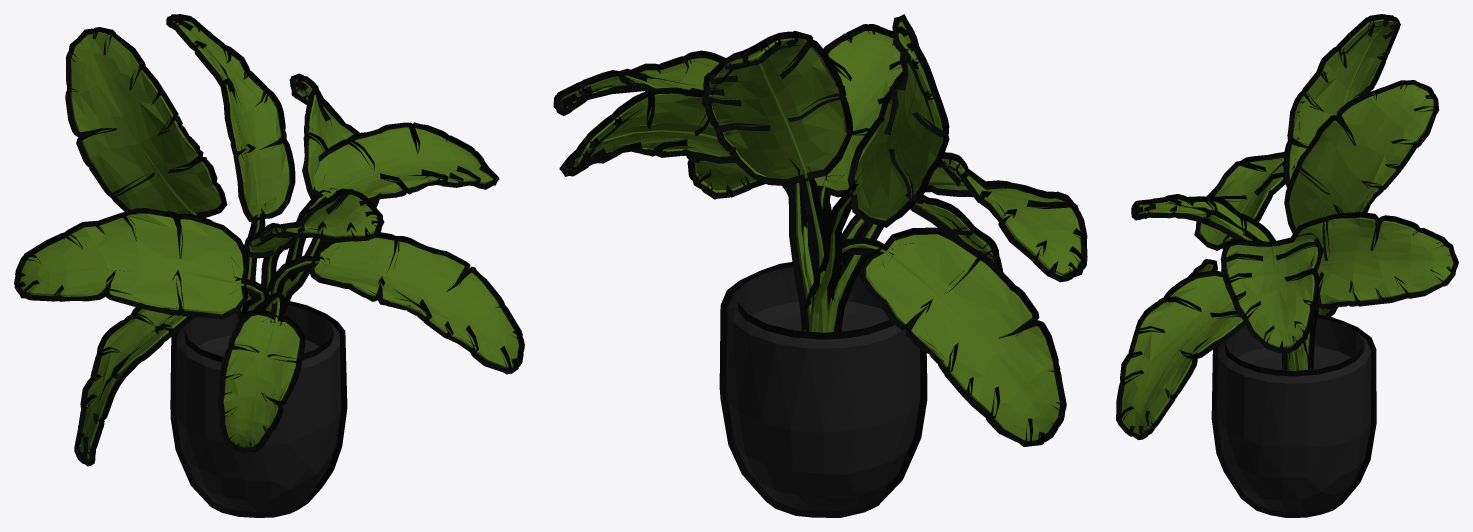
Rendered from plante_3.glb.
The picture shows the model from 3 angles, left to right: view 1: azimuth 30°, elevation 25°; view 2: azimuth 150°, elevation 25°; view 3: azimuth 270°, elevation 25°; orthographic projection. The views are drawn at different scales.
Visible parts, largest first — view 1: object5.003; view 2: object5.003; view 3: object5.003.
Part boxes in pixels (box(x1,y1,x2,y2)): object5.003: box(14, 14, 524, 517); object5.003: box(553, 14, 1087, 517); object5.003: box(1116, 14, 1458, 517).
Bounding box in the file's own units: 1.85 × 1.78 × 1.28.
